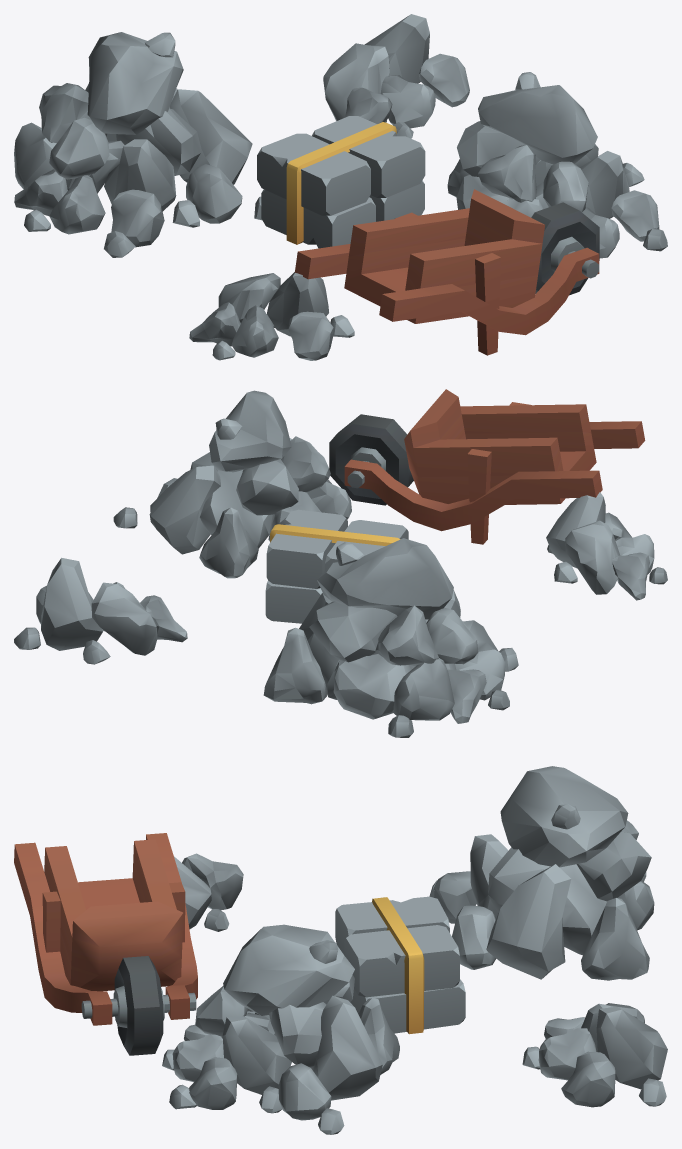
The model's file is bld_rubble_heap_2x2.glb.
3 views of the same model, one above another, from view 1: azimuth 30°, elevation 25°; view 2: azimuth 150°, elevation 25°; view 3: azimuth 270°, elevation 25° (orthographic). The views are drawn at different scales.
Parts seen in each view (by area): view 1: Stone_Chunks_Large, wheelbarrow, Stone_Chunks_Large2, Stone_Bricks_Stack_Small, Stone_Chunks_Small, Stone_Chunks_Small2; view 2: Stone_Chunks_Large, wheelbarrow, Stone_Chunks_Large2, Stone_Chunks_Small, Stone_Bricks_Stack_Small, Stone_Chunks_Small2; view 3: Stone_Chunks_Large, Stone_Chunks_Large2, wheelbarrow, Stone_Bricks_Stack_Small, Stone_Chunks_Small, Stone_Chunks_Small2.
Boxes of the visible parts, x1,y1,x2,y2 form: Stone_Chunks_Large: (14,32,261,257); wheelbarrow: (294,189,599,355); Stone_Chunks_Large2: (447,72,667,258); Stone_Bricks_Stack_Small: (257,116,425,248); Stone_Chunks_Small: (323,14,469,138); Stone_Chunks_Small2: (189,272,354,360); Stone_Chunks_Large: (263,538,518,737); wheelbarrow: (329,389,645,544); Stone_Chunks_Large2: (113,390,351,578); Stone_Chunks_Small: (14,557,187,664); Stone_Bricks_Stack_Small: (265,509,408,623); Stone_Chunks_Small2: (546,492,667,600); Stone_Chunks_Large: (429,766,654,980); Stone_Chunks_Large2: (162,924,399,1134); wheelbarrow: (14,833,197,1055); Stone_Bricks_Stack_Small: (335,896,465,1034); Stone_Chunks_Small: (522,1003,667,1107); Stone_Chunks_Small2: (174,853,243,931).
Bounding box in the file's own units: 1.49 × 0.4524 × 1.61.
4 materials, 4 textured.
